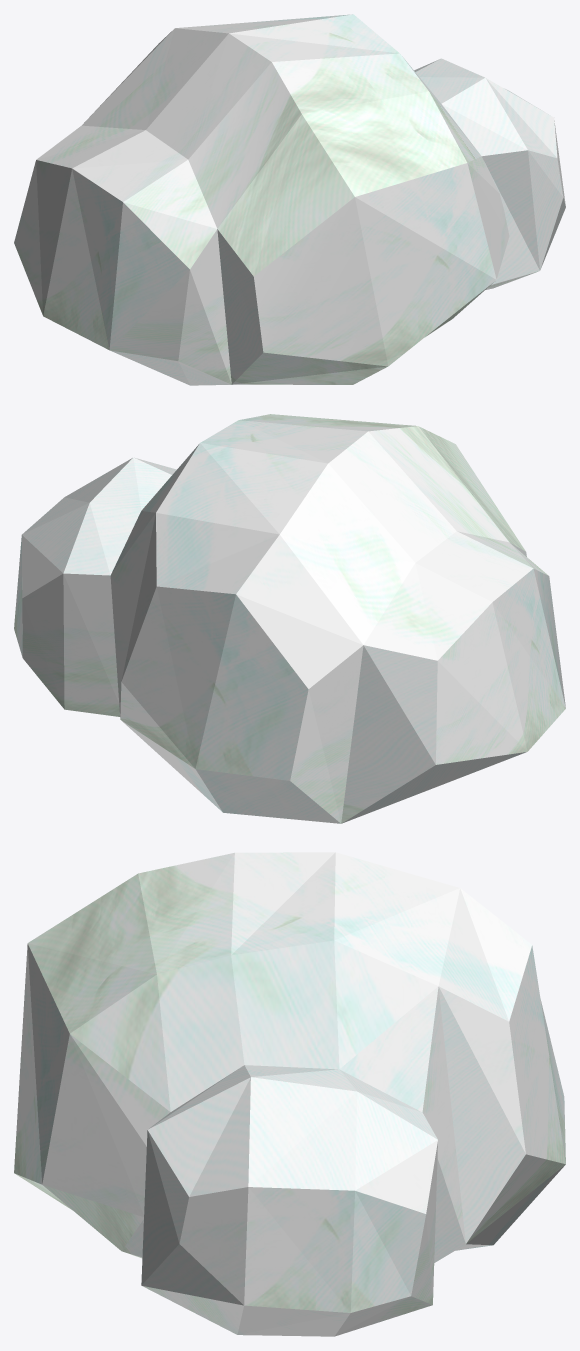
Rendered from island-cloud.obj.
3 views of the same model, one above another, from view 1: azimuth 30°, elevation 25°; view 2: azimuth 150°, elevation 25°; view 3: azimuth 270°, elevation 25° (orthographic). The views are drawn at different scales.
Parts seen in each view (by area): view 1: cloud.001_cloud; view 2: cloud.001_cloud; view 3: cloud.001_cloud.
Boxes of the visible parts, x1,y1,x2,y2 form: cloud.001_cloud: (14,14,565,385); cloud.001_cloud: (14,414,565,823); cloud.001_cloud: (14,852,565,1336).
Bounding box in the file's own units: 166 × 105 × 131.
Materials: 1 (1 with a texture image).
